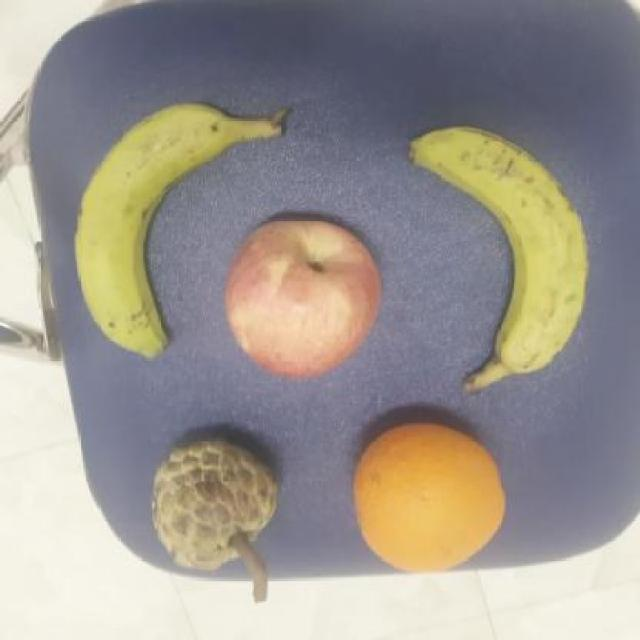apple: (216, 214, 398, 383)
banana: (74, 106, 298, 366), (409, 124, 596, 391)
oren: (353, 418, 509, 576)
sugar apple: (150, 435, 275, 574)
